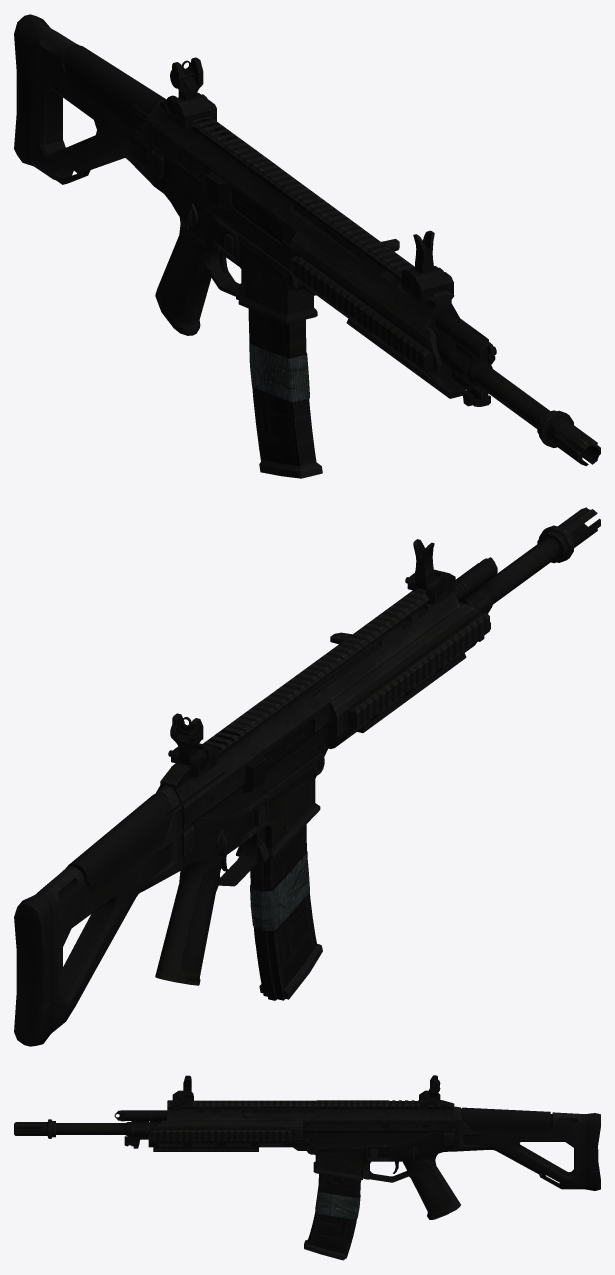
The model's file is Gun.fbx.
The picture shows the model from 3 angles, top to bottom: view 1: azimuth 30°, elevation 25°; view 2: azimuth 150°, elevation 25°; view 3: azimuth 270°, elevation 25°; orthographic projection. The views are drawn at different scales.
Visible parts, largest first — view 1: Mesh_0004, MAG, Mesh_0007; view 2: Mesh_0004, MAG, Mesh_0007; view 3: Mesh_0004, MAG, Mesh_0007.
Boxes of the visible parts, x1,y1,x2,y2 form: Mesh_0004: [14, 14, 600, 466]; MAG: [248, 309, 322, 478]; Mesh_0007: [164, 57, 453, 302]; Mesh_0004: [14, 507, 600, 1046]; MAG: [250, 824, 322, 1000]; Mesh_0007: [168, 539, 455, 778]; Mesh_0004: [14, 1100, 600, 1219]; MAG: [304, 1174, 360, 1260]; Mesh_0007: [172, 1075, 440, 1109].
Size of the model in its own units: 15.41 by 77.49 by 229.
